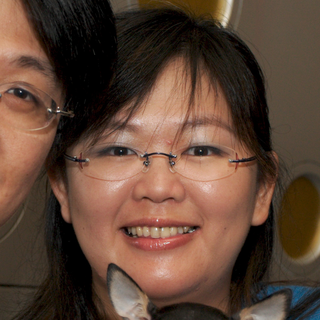eye: (1, 81, 49, 115), (172, 141, 228, 164), (92, 144, 143, 162)
